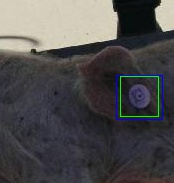text: (120, 76, 158, 116)
